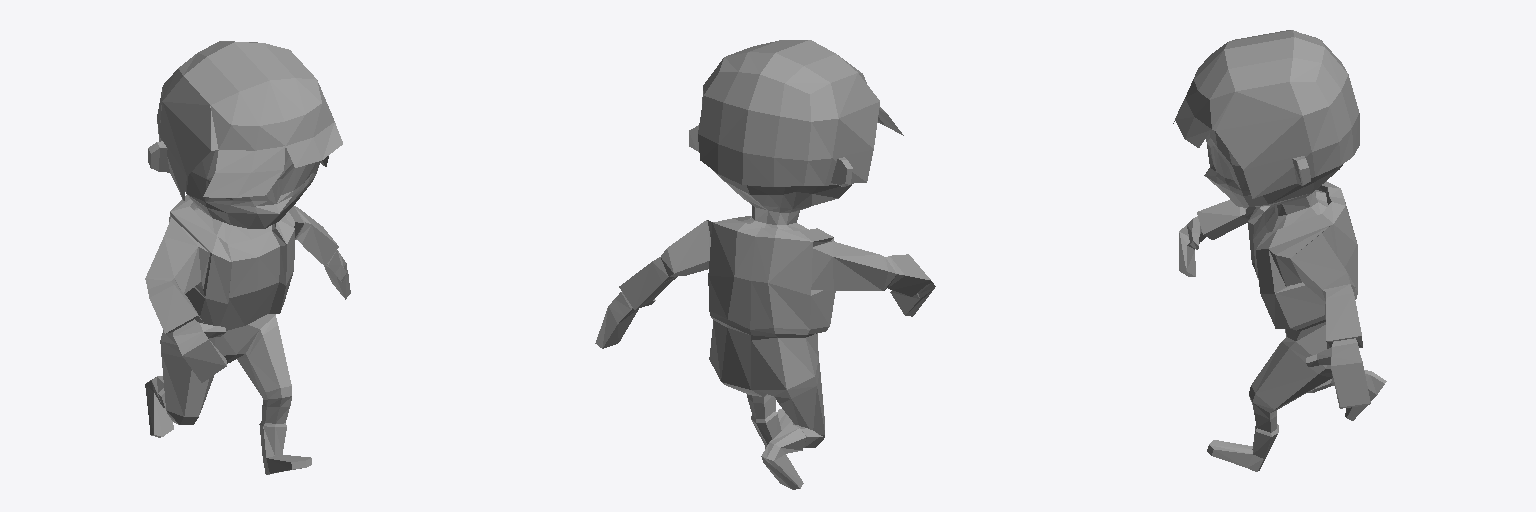
File: character3Animado2.obj
The picture shows the model from 3 angles: view 1: azimuth 30°, elevation 25°; view 2: azimuth 150°, elevation 25°; view 3: azimuth 270°, elevation 25°; orthographic projection.
Visible parts, largest first — view 1: Cube.001; view 2: Cube.001; view 3: Cube.001.
Boxes of the visible parts, x1,y1,x2,y2 form: Cube.001: [145, 41, 350, 474]; Cube.001: [595, 40, 935, 489]; Cube.001: [1173, 30, 1386, 471].
Bounding box in the file's own units: 3.15 × 5.01 × 2.29.